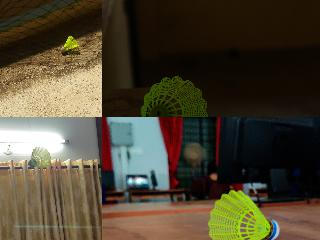shuttlecock: (207, 188, 281, 239), (141, 76, 208, 116), (28, 146, 50, 168), (61, 36, 78, 52)
